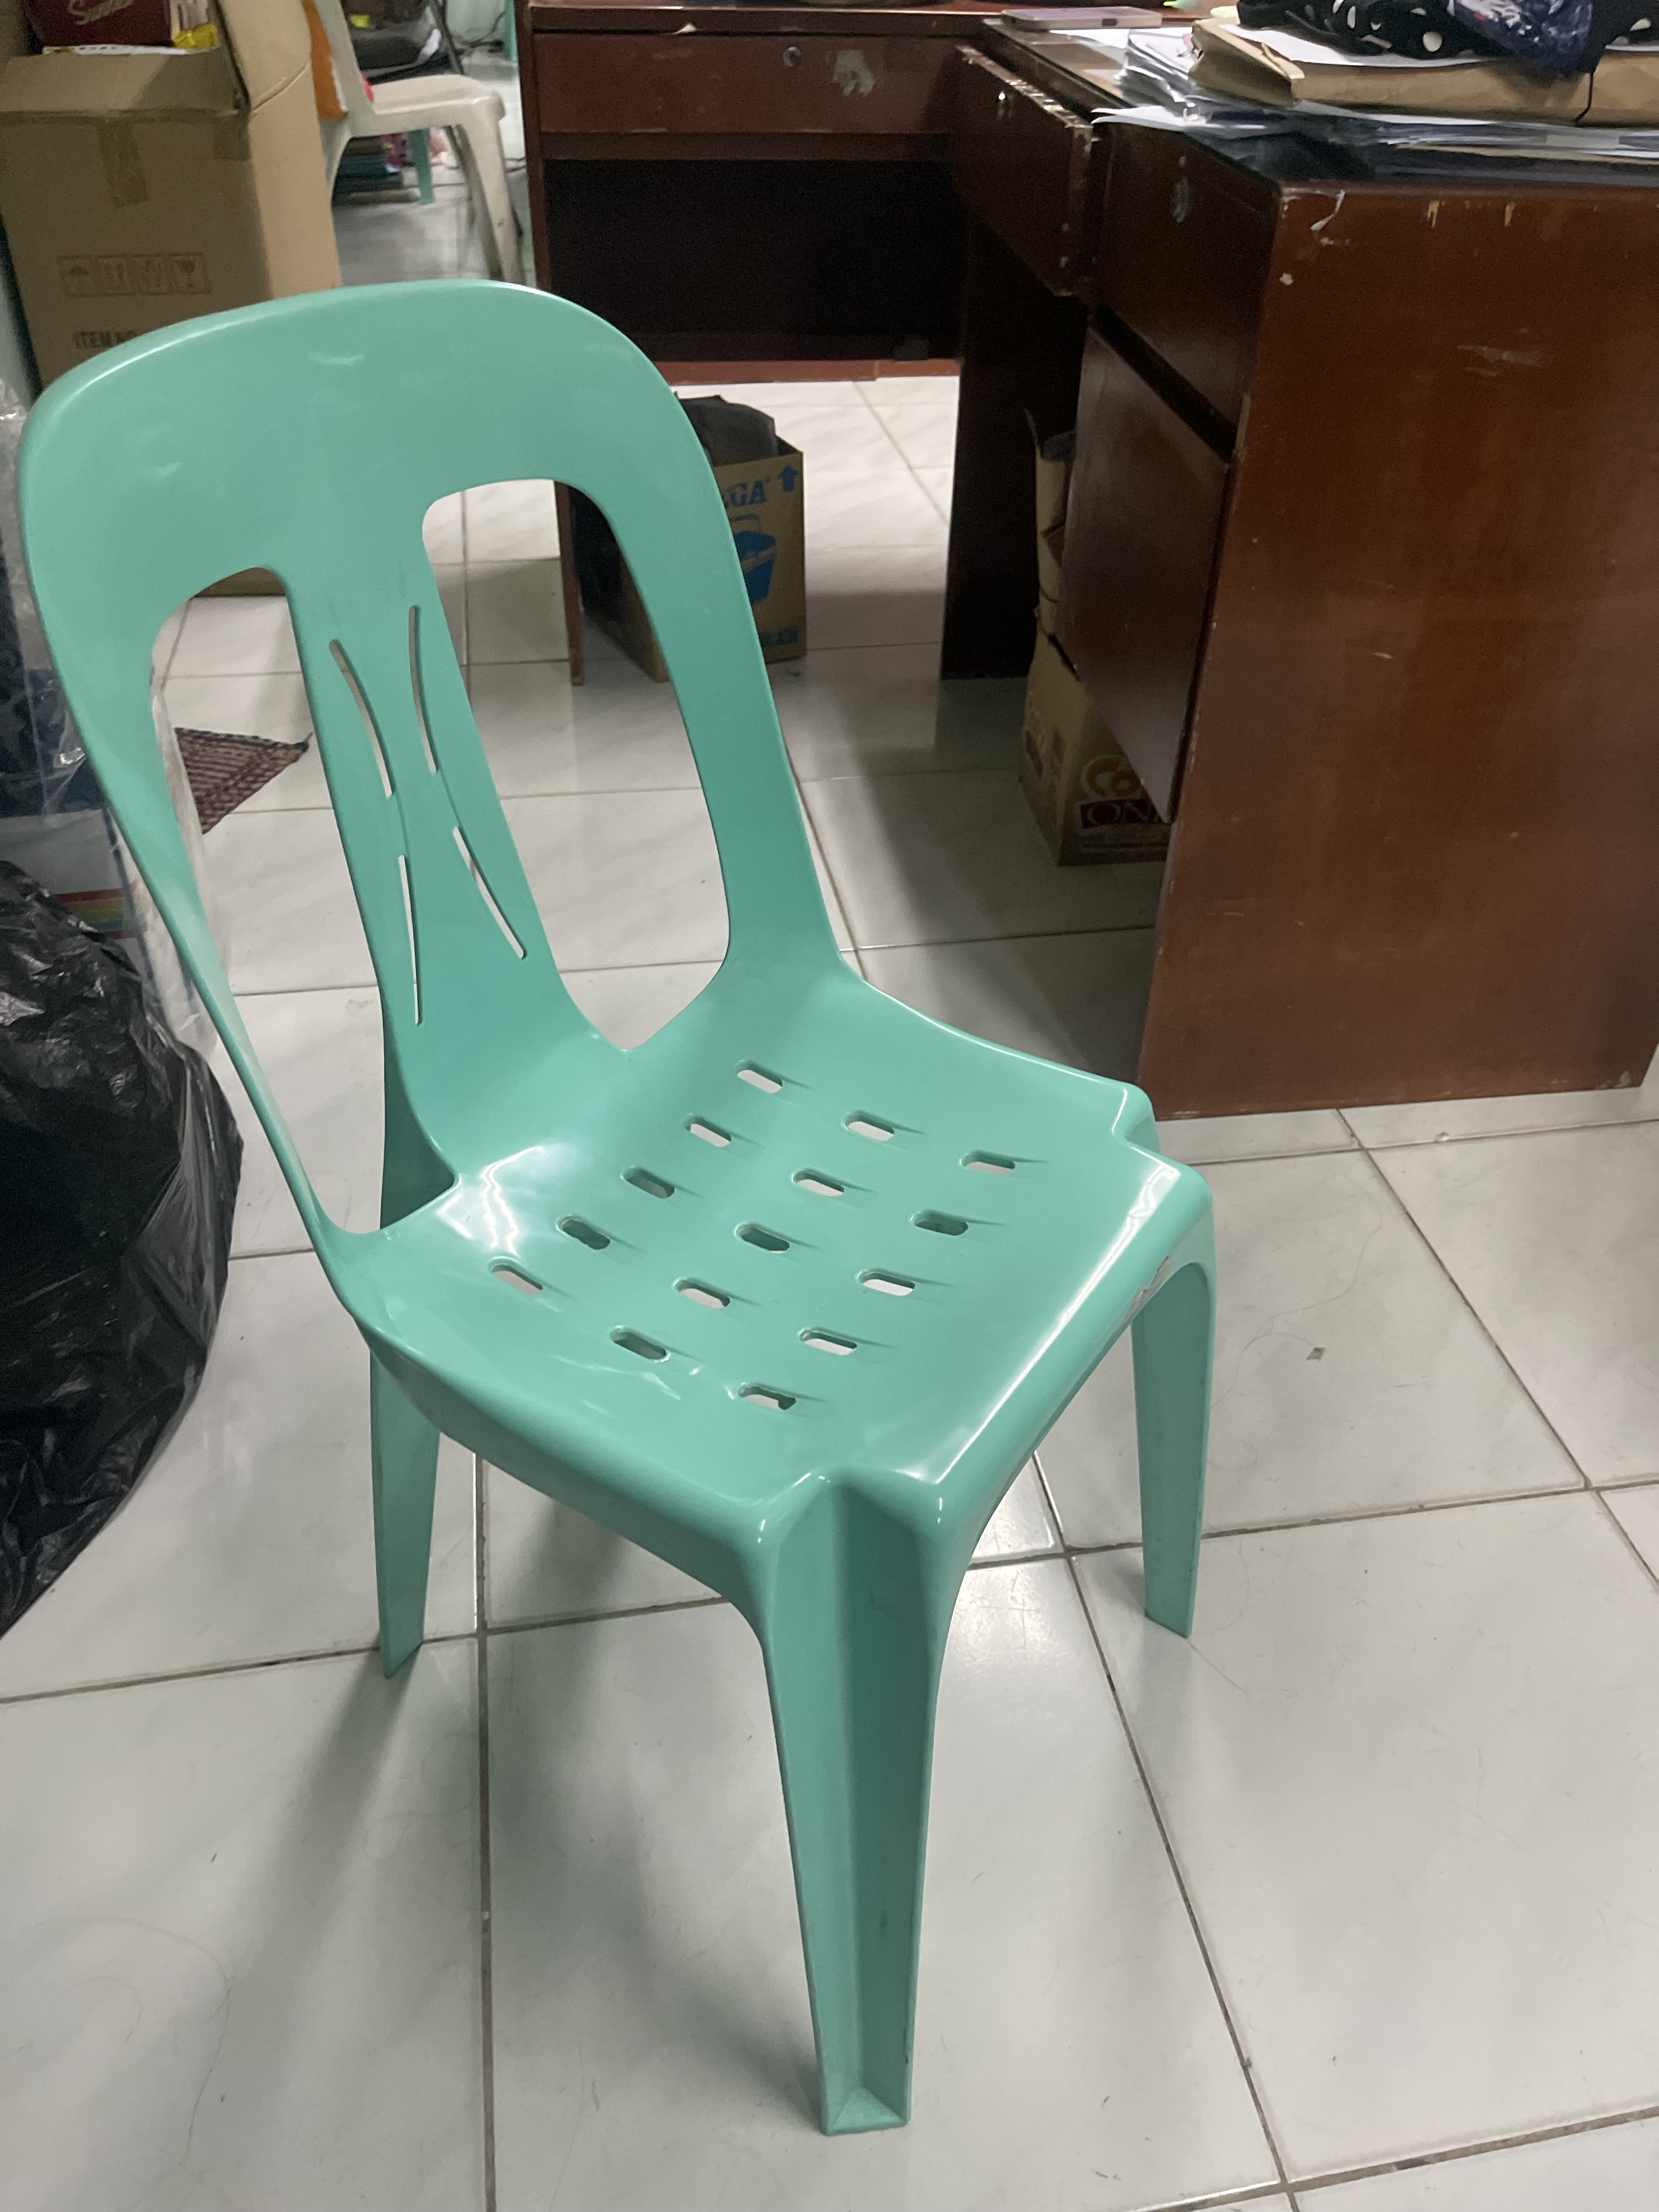chair2: (16, 272, 1218, 2156)
